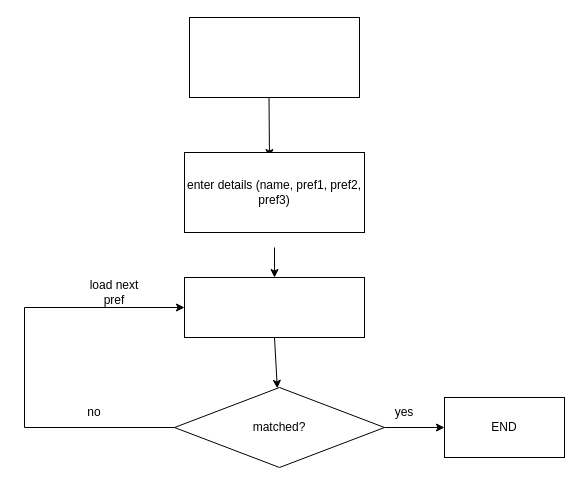
The diagram is 582 pixels wide and 485 high, and some of its shapes have lost their labels. Each missing label, with the box of its shape:
check with database for match: (184, 276, 364, 338)
start: (188, 16, 360, 98)
